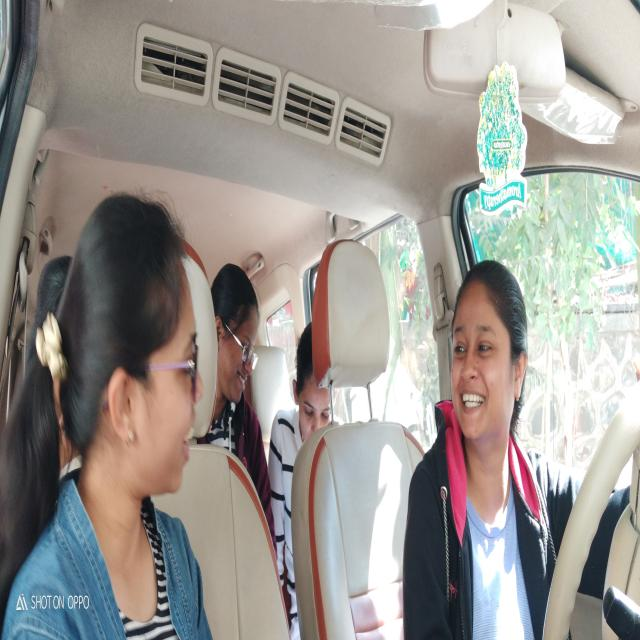LeftRight: (447, 245, 530, 455)
person: (67, 178, 206, 522), (215, 255, 263, 415), (292, 320, 339, 436)
talking: (456, 381, 489, 424), (176, 419, 198, 468)
